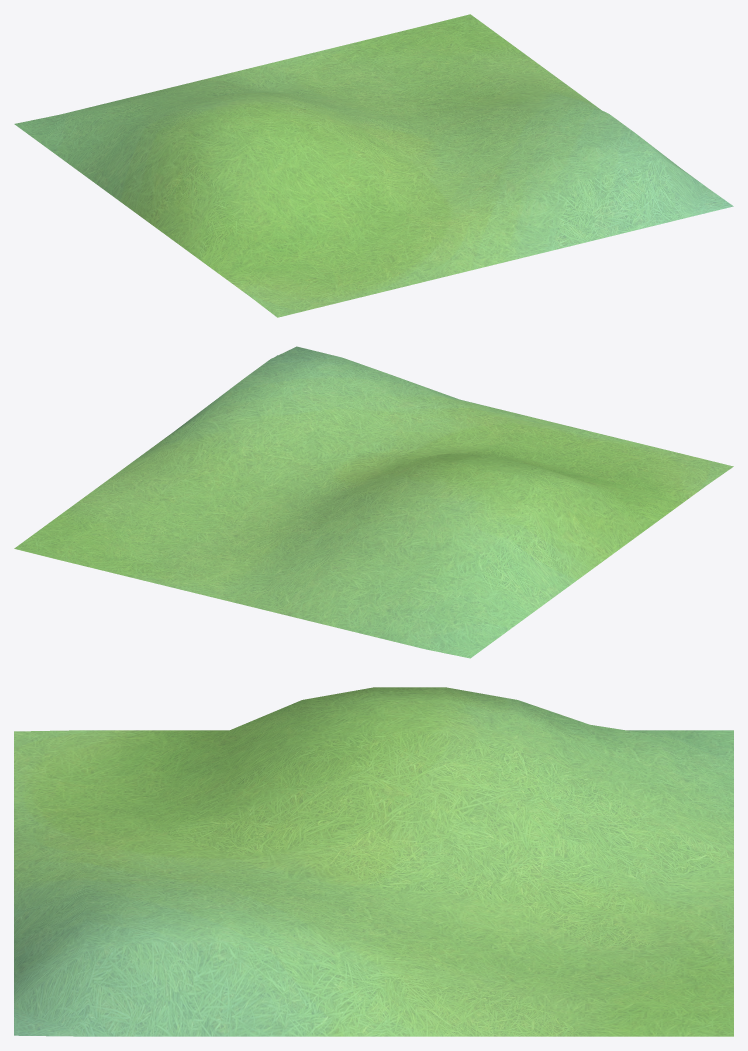
3 views of the same model, one above another, from view 1: azimuth 30°, elevation 25°; view 2: azimuth 150°, elevation 25°; view 3: azimuth 270°, elevation 25° (orthographic). The views are drawn at different scales.
Parts seen in each view (by area): view 1: Plane001; view 2: Plane001; view 3: Plane001.
Boxes of the visible parts, <box> form: Plane001: <box>14,14,733,317</box>; Plane001: <box>14,346,733,658</box>; Plane001: <box>14,687,733,1036</box>.
Size of the model in its own units: 140 by 20.04 by 140.
Materials: 1 (1 with a texture image).
